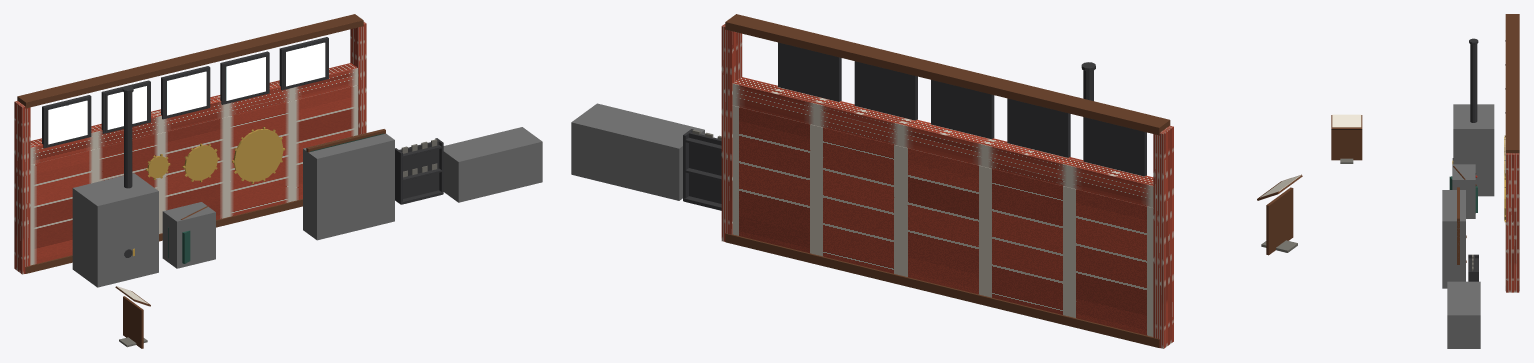
The model's file is S4_factory.glb.
3 renders of one model, left to right at view 1: azimuth 30°, elevation 25°; view 2: azimuth 150°, elevation 25°; view 3: azimuth 270°, elevation 25°, orthographic. The views are drawn at different scales.
Visible parts, largest first — view 1: factory_backwall, COL_furnace, COL_blackboard, COL_workbench, COL_console, sample_rack, ANIM_gear_3, EMIT_highWindow_1, EMIT_highWindow_3, EMIT_highWindow_5, EMIT_highWindow_4, EMIT_highWindow_2 (+5 smaller); view 2: factory_backwall, COL_workbench, sample_rack, label_stand_SIGN_label_factory; view 3: factory_backwall, COL_furnace, COL_workbench, COL_blackboard, label_stand_SIGN_label_factory, COL_console, furnace_body, SIGN_label_factory, sample_rack, blackboard, console_body.
Part boxes in pixels (x1,y1,x2,y2): factory_backwall: [14, 14, 366, 274]; COL_furnace: [72, 173, 158, 287]; COL_blackboard: [303, 133, 394, 240]; COL_workbench: [443, 127, 542, 202]; COL_console: [162, 202, 215, 268]; sample_rack: [395, 138, 443, 204]; ANIM_gear_3: [232, 127, 285, 183]; EMIT_highWindow_1: [48, 100, 87, 144]; EMIT_highWindow_3: [167, 71, 206, 115]; EMIT_highWindow_5: [286, 42, 325, 86]; EMIT_highWindow_4: [226, 57, 265, 100]; EMIT_highWindow_2: [107, 86, 146, 129]; factory_backwall: [721, 14, 1173, 348]; COL_workbench: [571, 103, 704, 200]; sample_rack: [683, 129, 721, 210]; label_stand_SIGN_label_factory: [1257, 174, 1302, 255]; factory_backwall: [1505, 14, 1519, 292]; COL_furnace: [1453, 104, 1494, 196]; COL_workbench: [1447, 281, 1480, 348]; COL_blackboard: [1442, 190, 1465, 288]; label_stand_SIGN_label_factory: [1331, 115, 1362, 163]; COL_console: [1452, 164, 1475, 218]; furnace_body: [1469, 38, 1478, 122]; SIGN_label_factory: [1332, 114, 1361, 127]; sample_rack: [1468, 254, 1478, 281]; blackboard: [1457, 187, 1466, 264]; console_body: [1449, 166, 1477, 212].
Bounding box in the file's own units: 11.83 × 4.19 × 4.83.
Materials: 16 (1 with a texture image).
